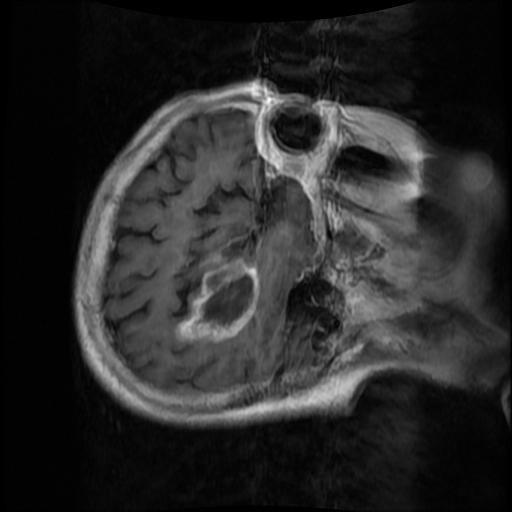glioma: (172, 257, 258, 341)
